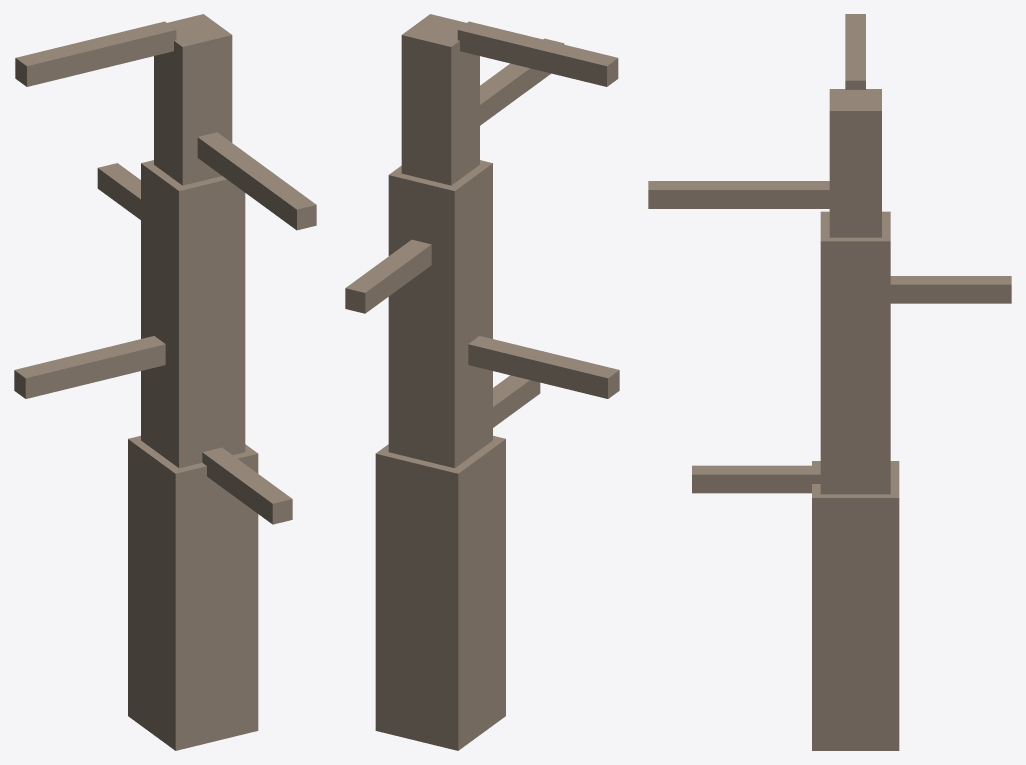
Rendered from propvar_dead_s.glb.
The picture shows the model from 3 angles, left to right: view 1: azimuth 30°, elevation 25°; view 2: azimuth 150°, elevation 25°; view 3: azimuth 270°, elevation 25°; orthographic projection. The views are drawn at different scales.
Visible parts, largest first — view 1: PropVar_Dead_S; view 2: PropVar_Dead_S; view 3: PropVar_Dead_S.
Boxes of the visible parts, bbox=[...] form: PropVar_Dead_S: bbox=[14, 14, 316, 750]; PropVar_Dead_S: bbox=[345, 14, 619, 750]; PropVar_Dead_S: bbox=[648, 14, 1011, 750].
Size of the model in its own units: 1.3 by 4.06 by 2.08.
